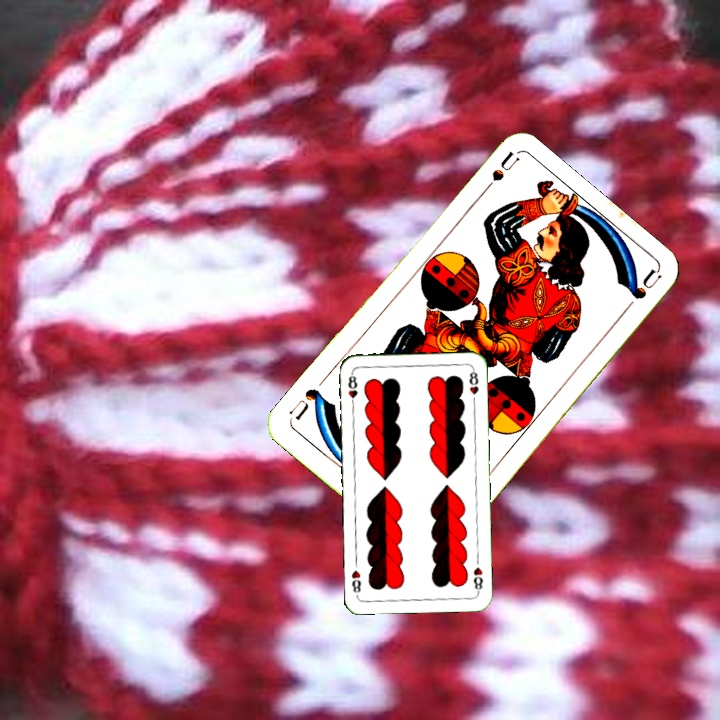H8: (344, 369, 360, 409), (469, 563, 486, 595)
SU: (475, 148, 521, 201)
